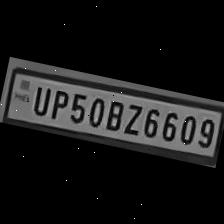0: (83, 92, 108, 128), (174, 110, 199, 144)
5: (63, 88, 90, 125)
6: (138, 103, 162, 139), (157, 105, 181, 141)
9: (193, 114, 217, 148)
B: (100, 95, 127, 132)
P: (44, 86, 69, 122)
U: (27, 80, 52, 116)
Z: (118, 99, 145, 136)
